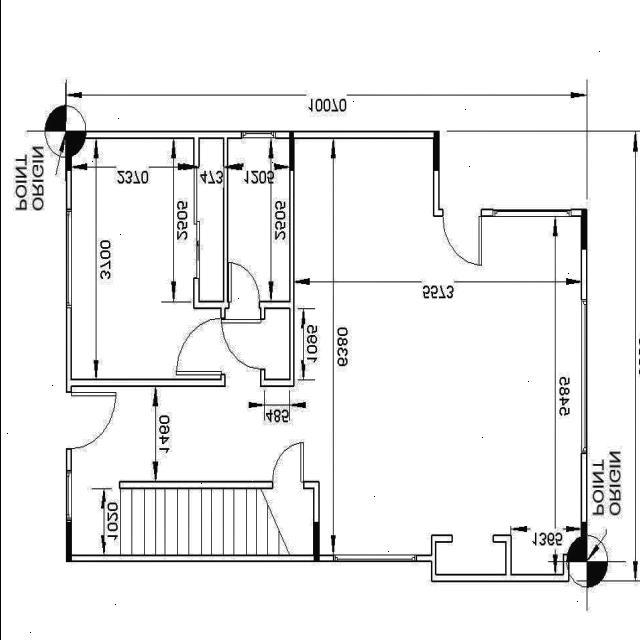Column: (432, 130, 439, 170), (580, 208, 586, 250), (580, 522, 586, 562), (288, 131, 294, 171), (65, 522, 71, 562), (312, 522, 318, 562), (64, 139, 70, 171), (64, 131, 86, 139), (566, 554, 580, 562)
Door: (65, 391, 115, 450), (175, 318, 225, 376), (441, 208, 481, 266), (220, 319, 264, 370), (226, 262, 259, 309), (271, 442, 303, 489)
Sliding Door: (192, 166, 198, 279)
Staircase: (71, 489, 312, 555)
Window: (580, 299, 586, 454), (332, 554, 416, 562), (492, 209, 570, 217), (65, 208, 71, 308), (65, 470, 71, 521), (240, 131, 275, 139)
